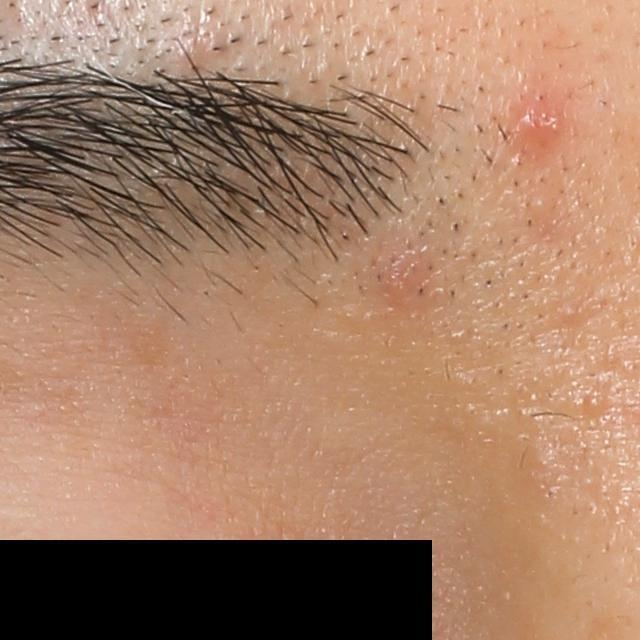comedo: (578, 390, 607, 417)
papule: (508, 91, 568, 150), (371, 248, 430, 305)
